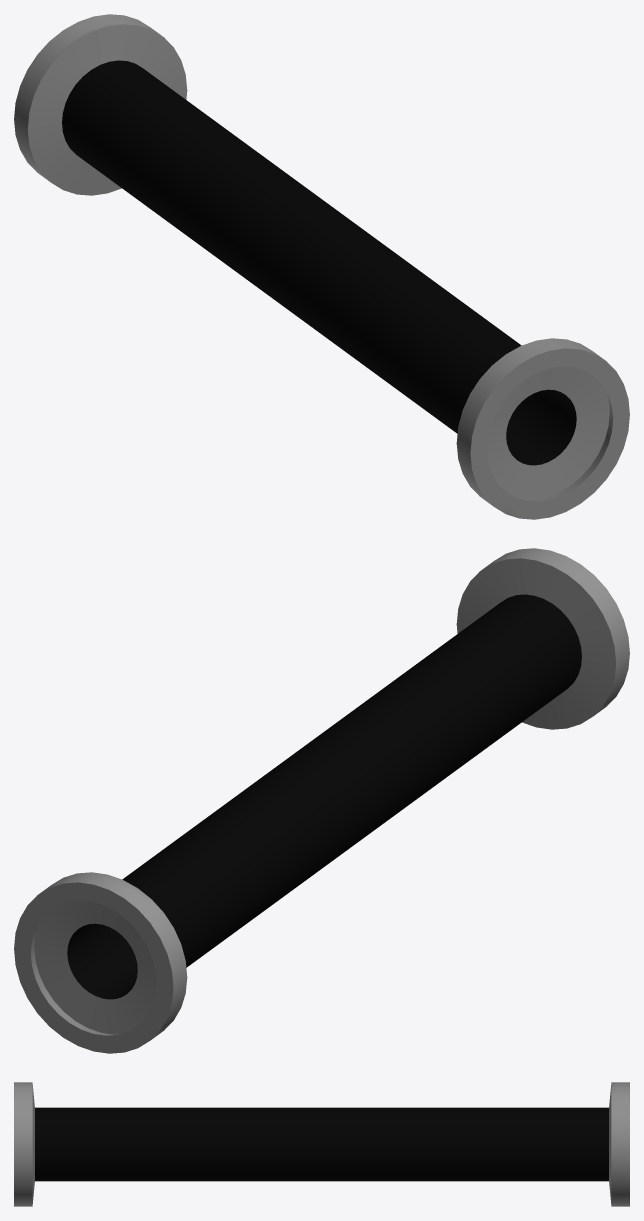
Rendered from StraightPipe.dae.
3 views of the same model, one above another, from view 1: azimuth 30°, elevation 25°; view 2: azimuth 150°, elevation 25°; view 3: azimuth 270°, elevation 25° (orthographic). The views are drawn at different scales.
Parts seen in each view (by area): view 1: StraightPipe; view 2: StraightPipe; view 3: StraightPipe.
Boxes of the visible parts, x1,y1,x2,y2 form: StraightPipe: [14, 14, 629, 519]; StraightPipe: [14, 548, 629, 1053]; StraightPipe: [14, 1082, 629, 1206].
Size of what is drawn, in the model's own units: 0.4061 by 2.01 by 0.4061.
